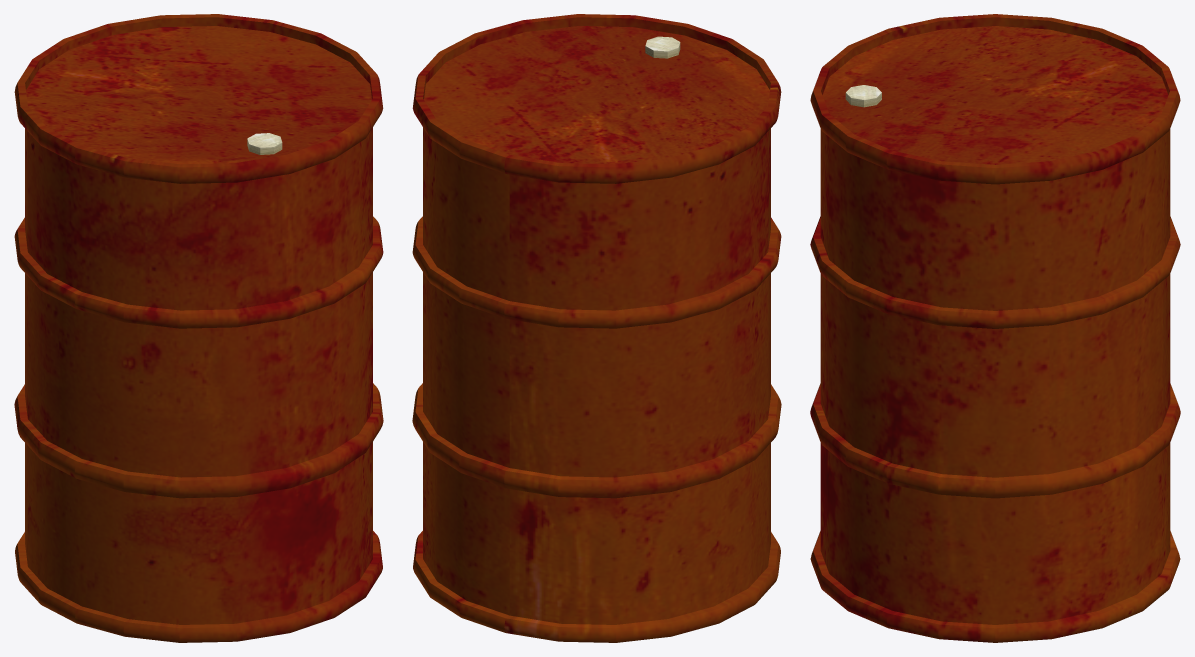
Rendered from oil_drum.fbx.
The picture shows the model from 3 angles, left to right: view 1: azimuth 30°, elevation 25°; view 2: azimuth 150°, elevation 25°; view 3: azimuth 270°, elevation 25°; orthographic projection.
Parts seen in each view (by area): view 1: pCylinder2, pCylinder3; view 2: pCylinder2, pCylinder3; view 3: pCylinder2, pCylinder3.
Part boxes in pixels (<box>): pCylinder2: <box>14,14,383,642</box>; pCylinder3: <box>247,133,282,154</box>; pCylinder2: <box>412,14,781,642</box>; pCylinder3: <box>645,36,680,58</box>; pCylinder2: <box>810,14,1180,642</box>; pCylinder3: <box>845,85,881,107</box>.
Bounding box in the file's own units: 3.18 × 4.5 × 3.18.
